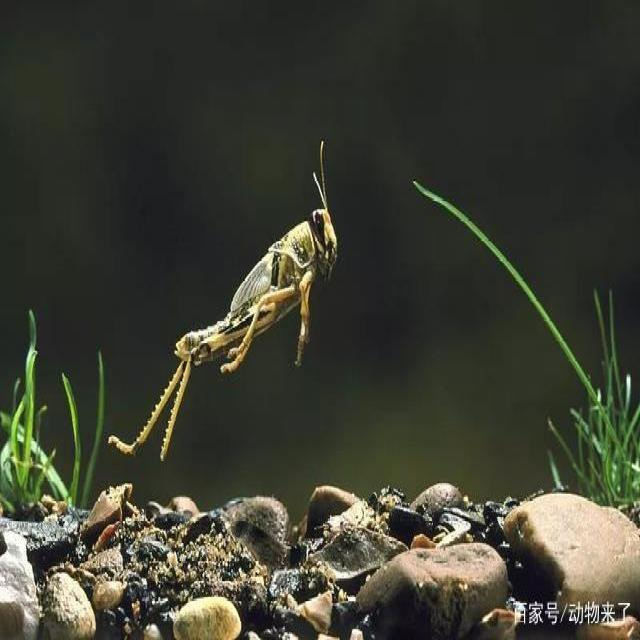ZhaMeng: (116, 134, 340, 459)
